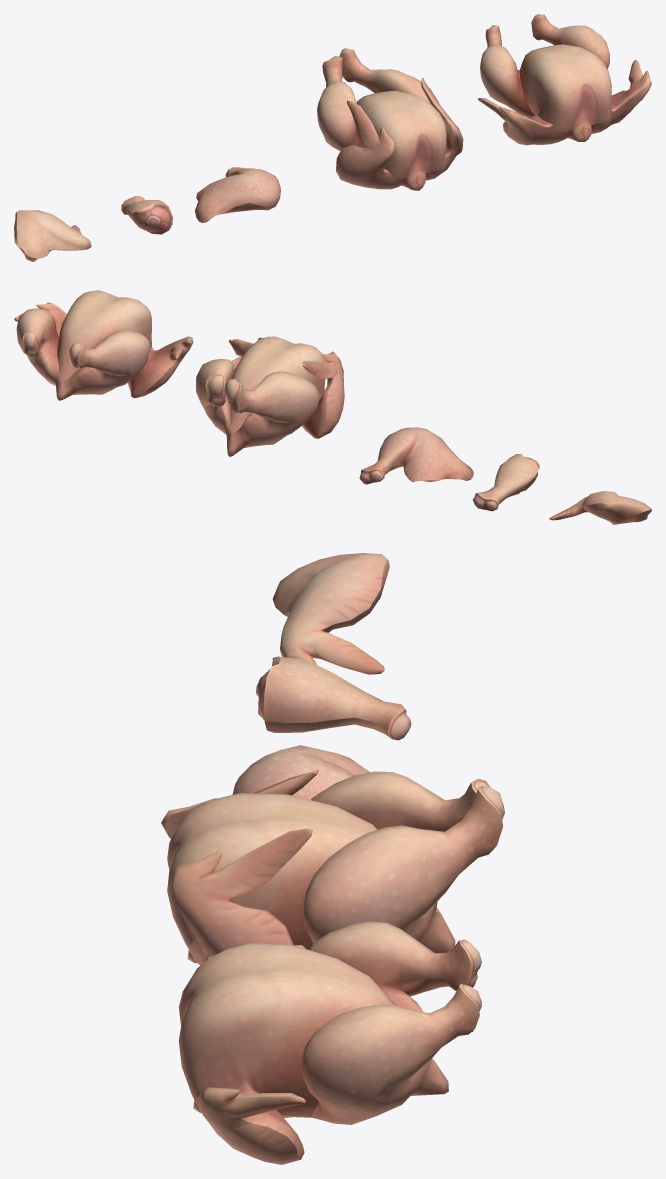
File: full chicken.glb
The picture shows the model from 3 angles, top to bottom: view 1: azimuth 30°, elevation 25°; view 2: azimuth 150°, elevation 25°; view 3: azimuth 270°, elevation 25°; orthographic projection. The views are drawn at different scales.
Visible parts, largest first — view 1: SM_ChickenRaw_ChickenRaw_0, SM_ChickenRawUnposed_ChickenRaw_0, SM_ChickenRawLeg_ChickenRaw_0, SM_ChickenRawWing_ChickenRaw_0, SM_ChickenRawDrumstick_ChickenRaw_0; view 2: SM_ChickenRaw_ChickenRaw_0, SM_ChickenRawUnposed_ChickenRaw_0, SM_ChickenRawLeg_ChickenRaw_0, SM_ChickenRawWing_ChickenRaw_0, SM_ChickenRawDrumstick_ChickenRaw_0; view 3: SM_ChickenRawUnposed_ChickenRaw_0, SM_ChickenRaw_ChickenRaw_0, SM_ChickenRawWing_ChickenRaw_0, SM_ChickenRawDrumstick_ChickenRaw_0, SM_ChickenRawLeg_ChickenRaw_0.
Part boxes in pixels (bbox=[...]): SM_ChickenRaw_ChickenRaw_0: bbox=[317, 48, 463, 190]; SM_ChickenRawUnposed_ChickenRaw_0: bbox=[478, 14, 651, 145]; SM_ChickenRawLeg_ChickenRaw_0: bbox=[195, 167, 280, 222]; SM_ChickenRawWing_ChickenRaw_0: bbox=[14, 210, 91, 261]; SM_ChickenRawDrumstick_ChickenRaw_0: bbox=[121, 196, 172, 234]; SM_ChickenRaw_ChickenRaw_0: bbox=[196, 336, 344, 456]; SM_ChickenRawUnposed_ChickenRaw_0: bbox=[14, 290, 193, 400]; SM_ChickenRawLeg_ChickenRaw_0: bbox=[359, 427, 473, 484]; SM_ChickenRawWing_ChickenRaw_0: bbox=[549, 491, 651, 524]; SM_ChickenRawDrumstick_ChickenRaw_0: bbox=[472, 454, 539, 511]; SM_ChickenRawUnposed_ChickenRaw_0: bbox=[178, 921, 481, 1164]; SM_ChickenRaw_ChickenRaw_0: bbox=[161, 769, 504, 965]; SM_ChickenRawWing_ChickenRaw_0: bbox=[272, 553, 389, 674]; SM_ChickenRawDrumstick_ChickenRaw_0: bbox=[256, 656, 411, 740]; SM_ChickenRawLeg_ChickenRaw_0: bbox=[232, 745, 369, 799].
Bounding box in the file's own units: 1.67 × 0.2314 × 0.4013.
1 material, 1 textured.
